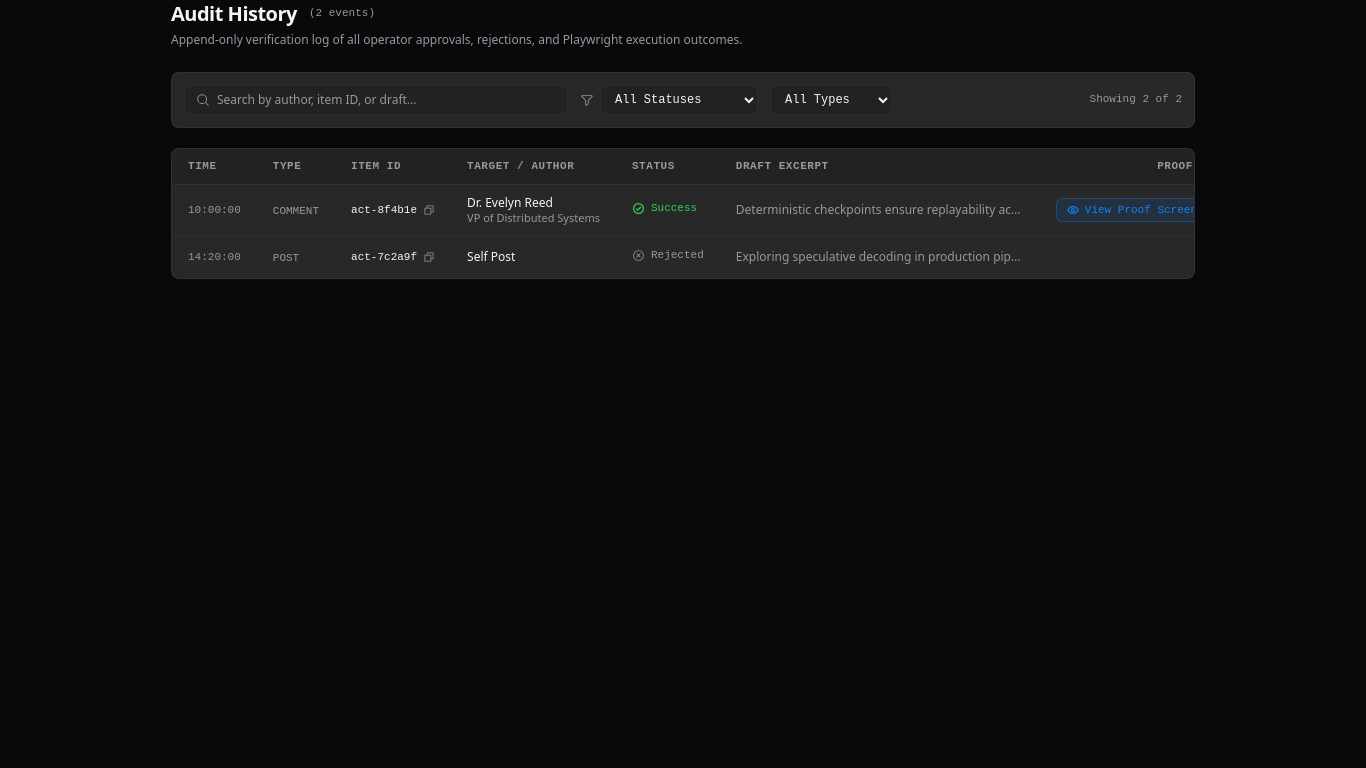
Test: AuditHistoryView & R2 Media Vault › AuditHistoryView rendering and interactive modal › allows copying screenshot key to clipboard inside the modal
Click the button with test id "view-proof-btn-hist-001" at point(1145, 210), box left=1056, top=198, right=1234, bottom=222
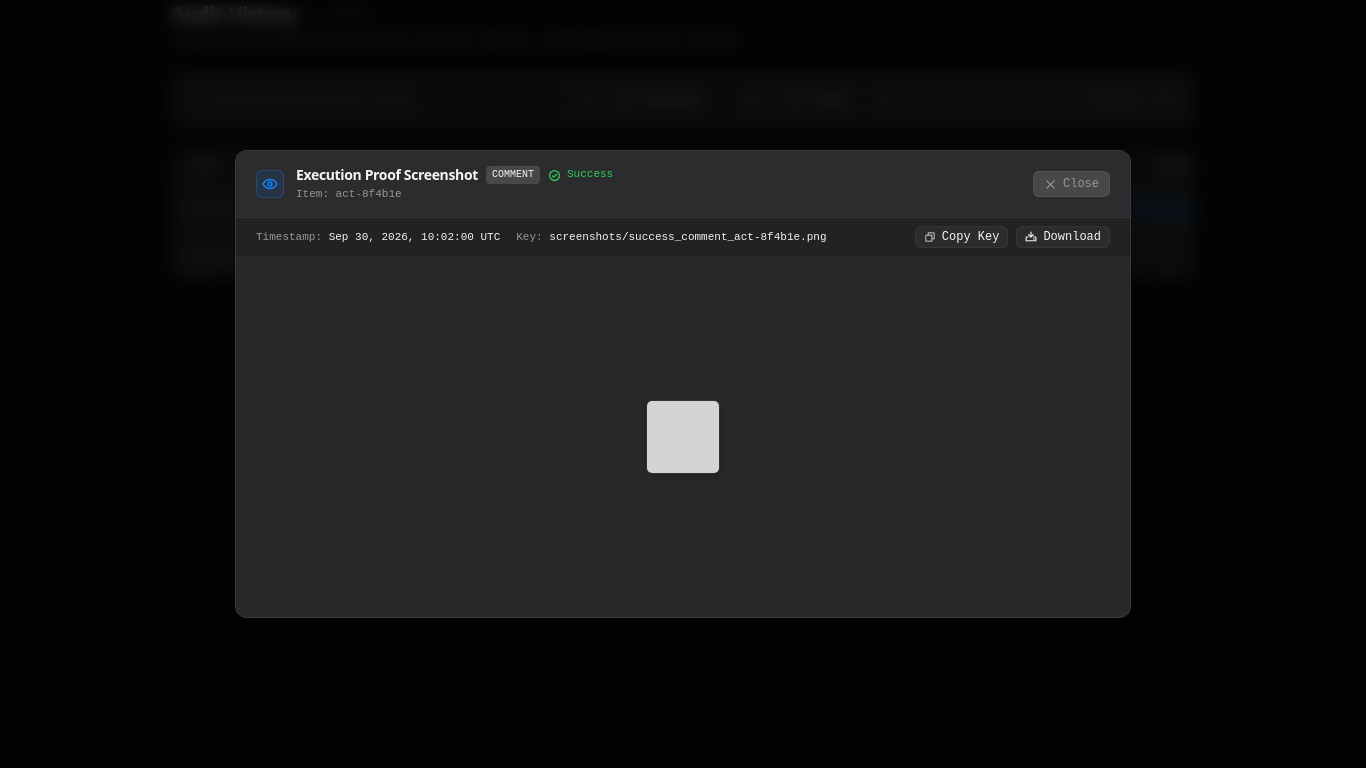
Click the button with test id "copy-screenshot-key-btn" at point(962, 237), box left=915, top=226, right=1008, bottom=248
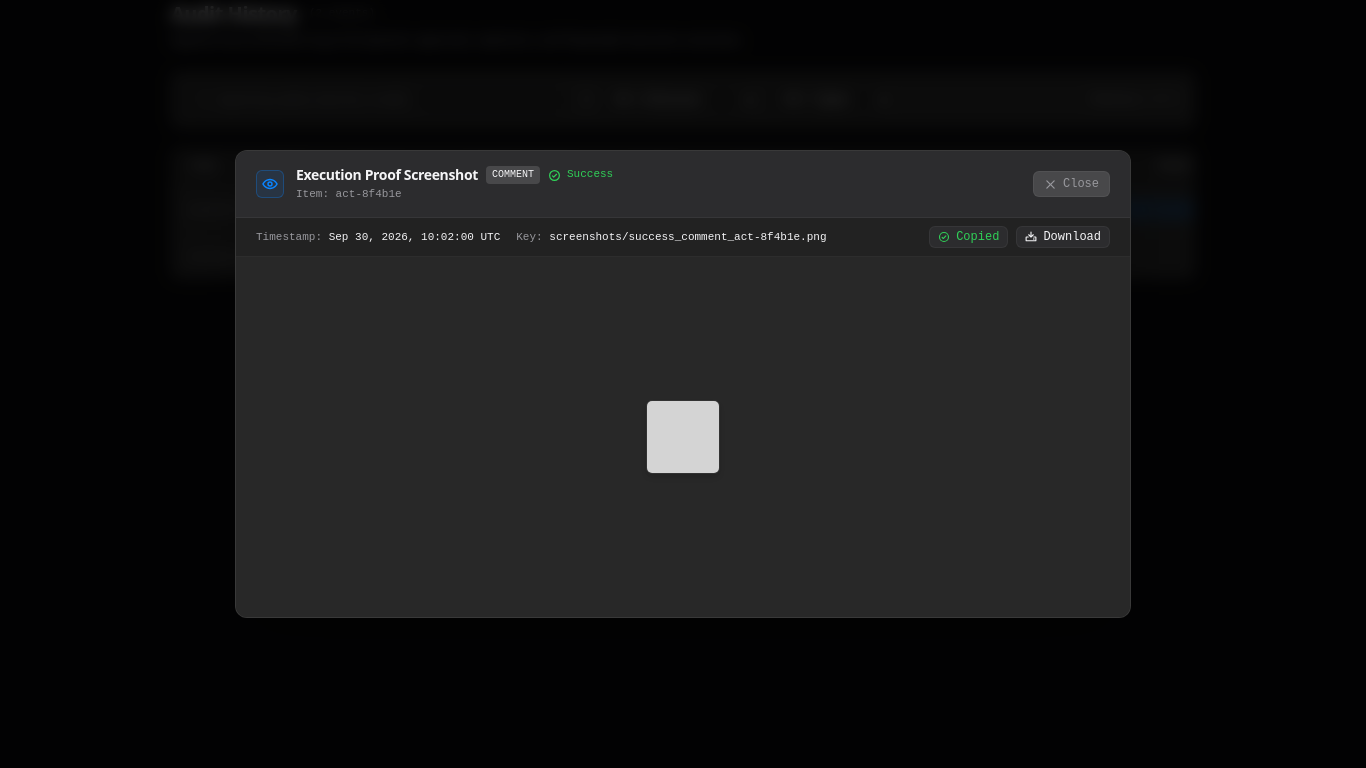
Now the text "Copied" is shown, box left=956, top=229, right=999, bottom=245
